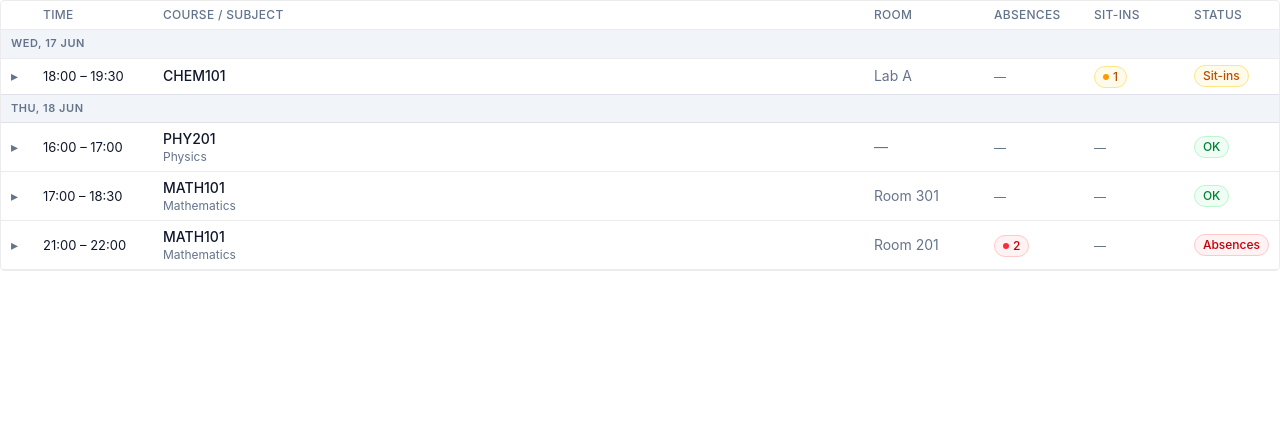
Test: SessionTable › clicking the same row again collapses the detail
Click the text "2" at [1012, 246], box [994,235,1029,257]
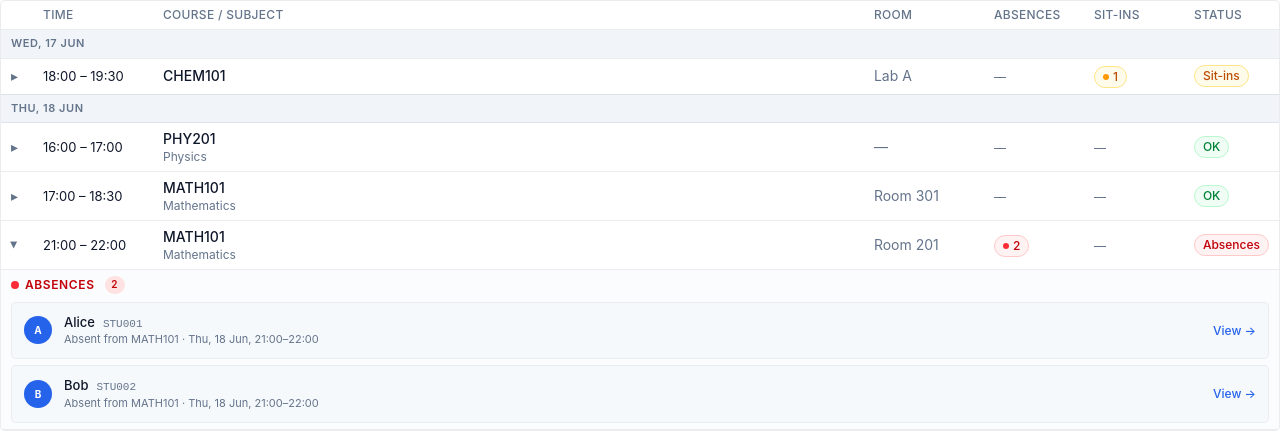
Expected: the number of links "View →" is 2, [1213,322,1256,339]; [1213,385,1256,402]
Click the text "2" at [1012, 246], box [994,235,1029,257]
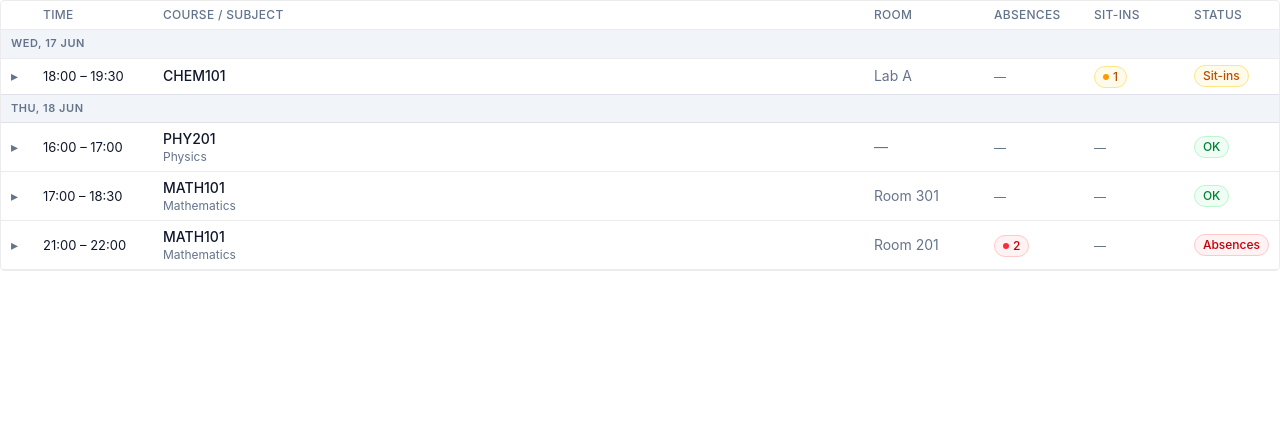
Expected: the link "View →" is gone
